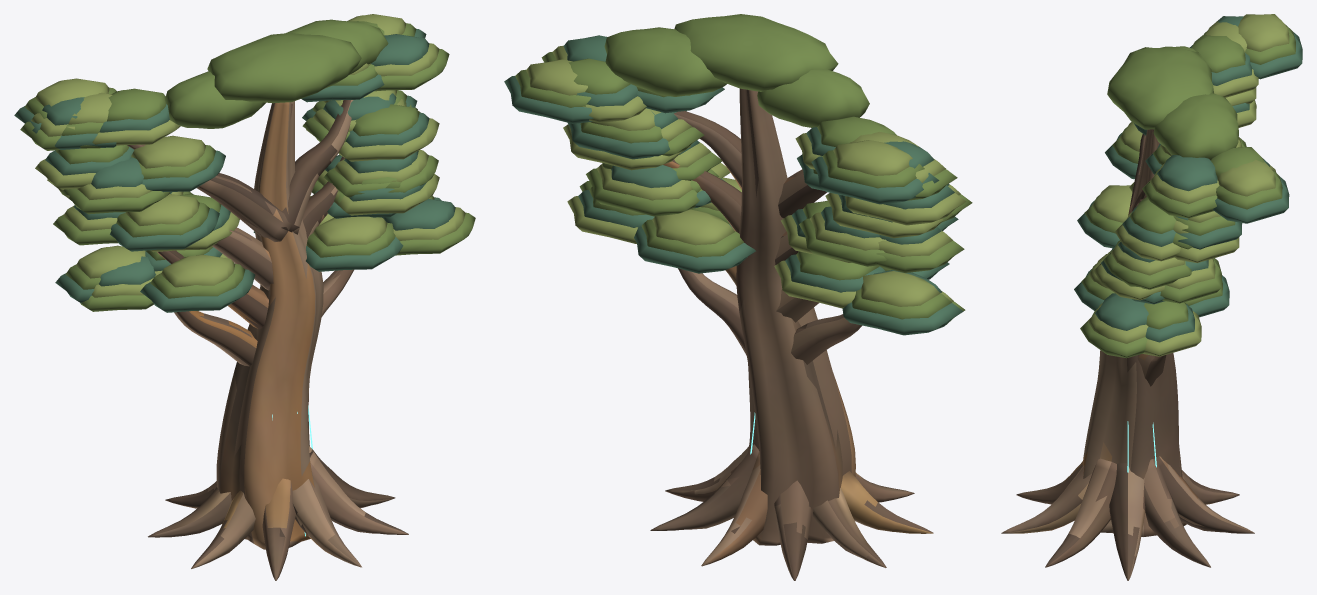
Rendered from SM_RB_AncientTree.fbx.
3 renders of one model, left to right at view 1: azimuth 30°, elevation 25°; view 2: azimuth 150°, elevation 25°; view 3: azimuth 270°, elevation 25°, orthographic. The views are drawn at different scales.
Parts seen in each view (by area): view 1: SM_RB_AncientTree; view 2: SM_RB_AncientTree; view 3: SM_RB_AncientTree.
Boxes of the visible parts, bbox=[...] form: SM_RB_AncientTree: bbox=[14, 14, 475, 580]; SM_RB_AncientTree: bbox=[504, 14, 972, 580]; SM_RB_AncientTree: bbox=[1001, 14, 1302, 580].
Bounding box in the file's own units: 20.04 × 12.88 × 22.15.
